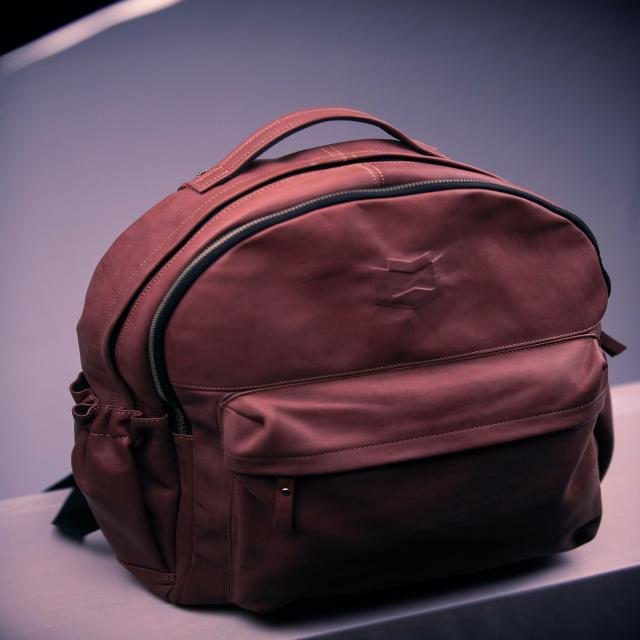backpack: (60, 105, 624, 616)
